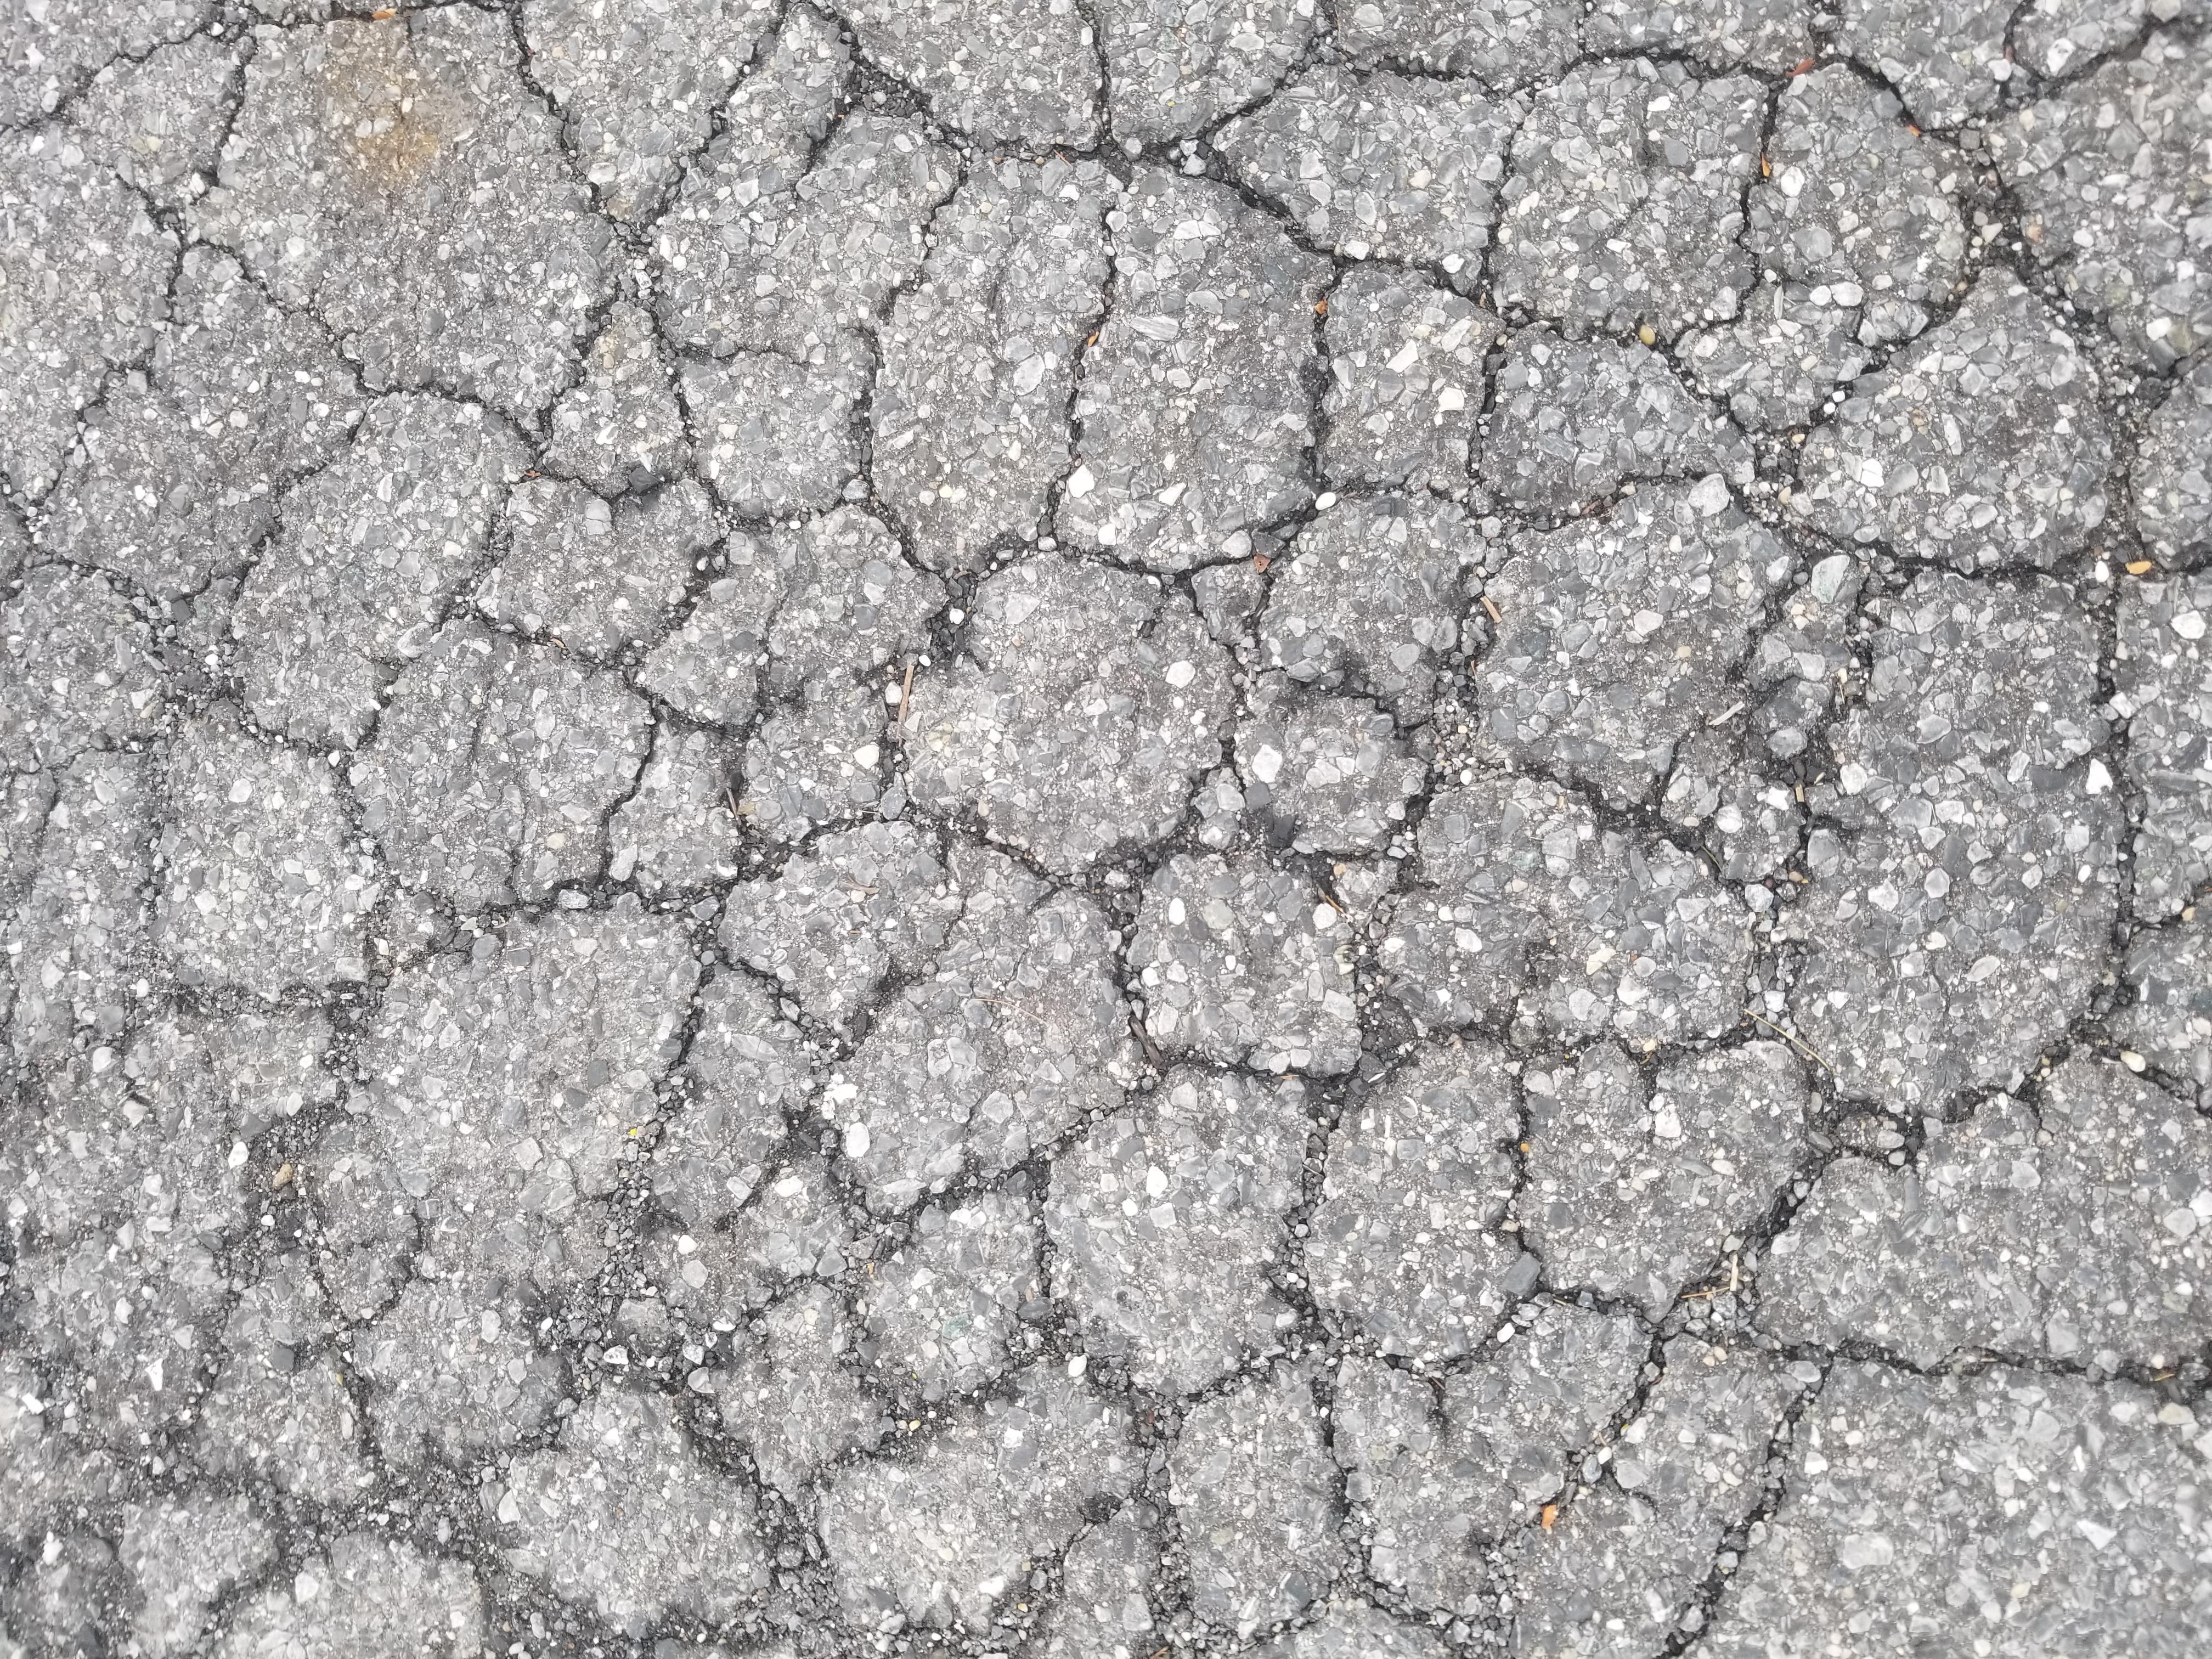alligator-crack: (3, 21, 2212, 1657)
